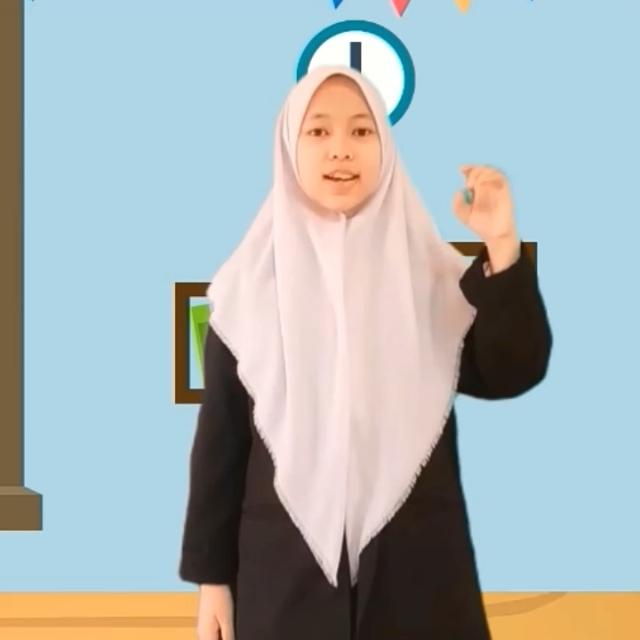E: (451, 162, 515, 238)
